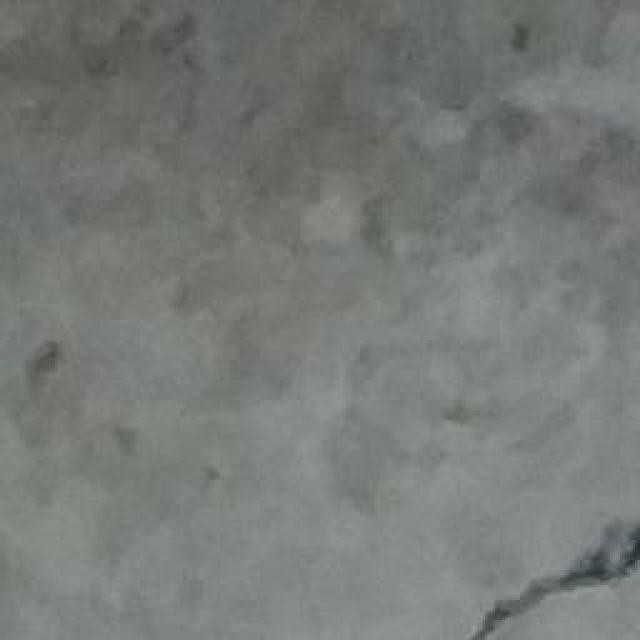Diagonal: (454, 507, 640, 640)
Rippled: (0, 0, 640, 481)
